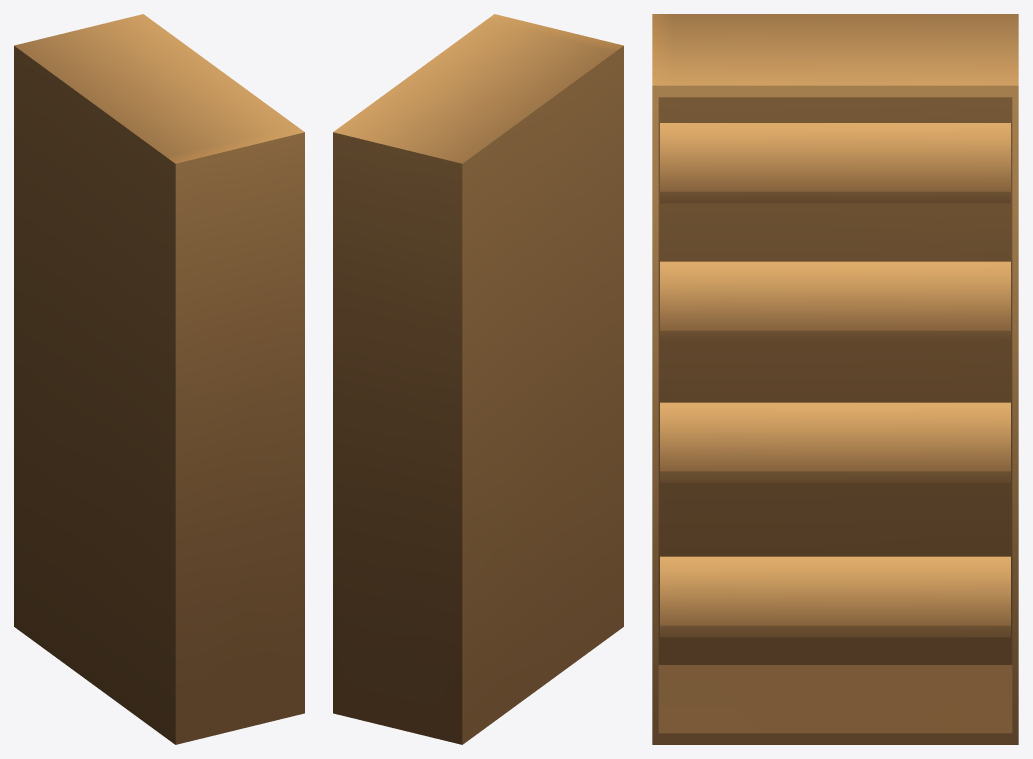
The model's file is Bookcase.fbx.
3 renders of one model, left to right at view 1: azimuth 30°, elevation 25°; view 2: azimuth 150°, elevation 25°; view 3: azimuth 270°, elevation 25°, orthographic. The views are drawn at different scales.
Parts seen in each view (by area): view 1: Bookcase; view 2: Bookcase; view 3: Bookcase.
Part boxes in pixels (x1=…): Bookcase: x1=14, y1=14, x2=304, y2=744; Bookcase: x1=333, y1=14, x2=623, y2=744; Bookcase: x1=652, y1=14, x2=1018, y2=744.
Bounding box in the file's own units: 110 × 471 × 237.
